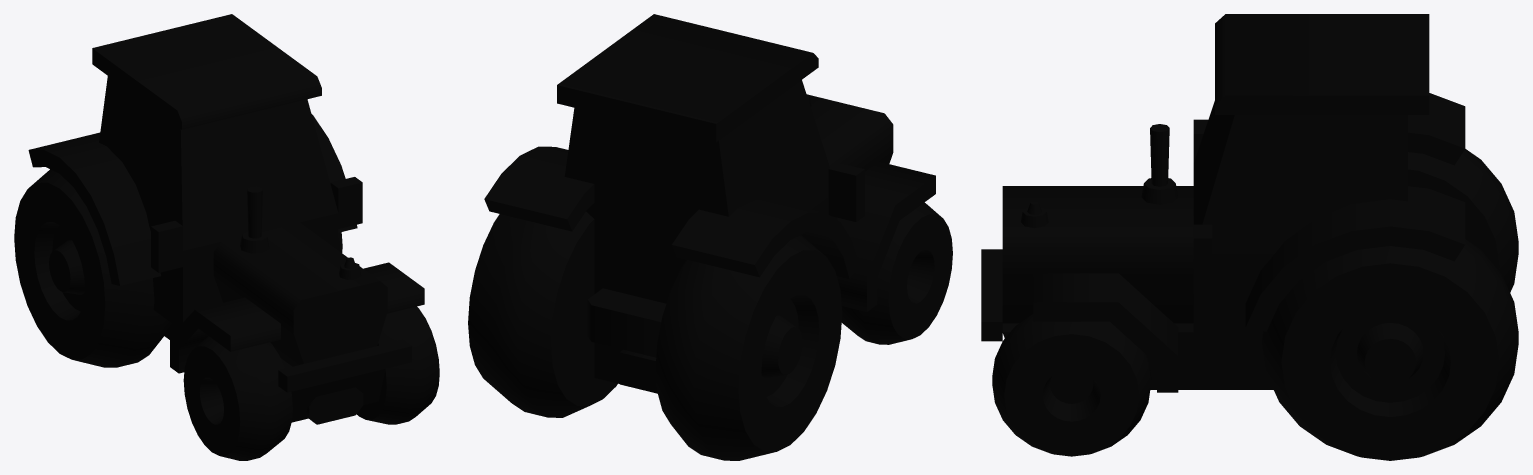
Rendered from tractor.glb.
3 renders of one model, left to right at view 1: azimuth 30°, elevation 25°; view 2: azimuth 150°, elevation 25°; view 3: azimuth 270°, elevation 25°, orthographic. The views are drawn at different scales.
Parts seen in each view (by area): view 1: body, wheel-back-right, wheel-front-right, wheel-front-left; view 2: body, wheel-back-right, wheel-back-left, wheel-front-right; view 3: body, wheel-back-left, wheel-front-left, wheel-back-right.
Boxes of the visible parts, left/top/right/bottom form: body: left=28, top=14, right=424, bottom=424; wheel-back-right: left=14, top=169, right=171, bottom=367; wheel-front-right: left=183, top=336, right=292, bottom=460; wheel-front-left: left=356, top=306, right=439, bottom=424; body: left=484, top=14, right=935, bottom=393; wheel-back-right: left=655, top=235, right=842, bottom=460; wheel-back-left: left=468, top=211, right=617, bottom=417; wheel-front-right: left=841, top=202, right=952, bottom=344; body: left=981, top=14, right=1465, bottom=392; wheel-back-left: left=1262, top=239, right=1518, bottom=460; wheel-front-left: left=992, top=314, right=1151, bottom=456; wheel-back-right: left=1408, top=149, right=1518, bottom=292.
Size of the model in its own units: 1.34 by 1.6 by 2.2.
Materials: 1 (1 with a texture image).
